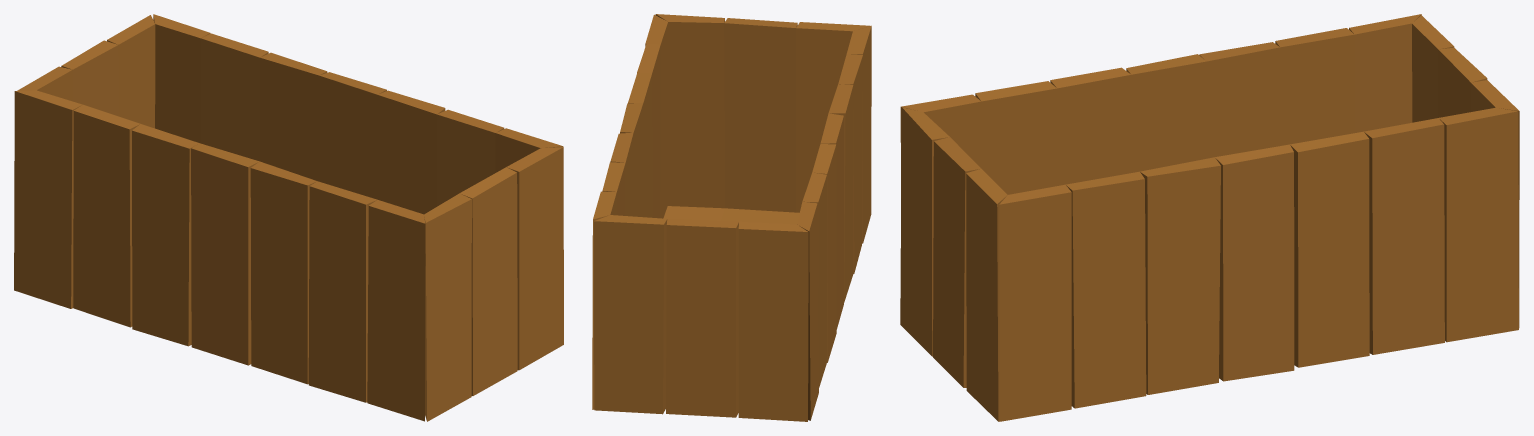
Rendered from Crate.fbx.
The picture shows the model from 3 angles, left to right: view 1: azimuth 30°, elevation 25°; view 2: azimuth 150°, elevation 25°; view 3: azimuth 270°, elevation 25°; orthographic projection. The views are drawn at different scales.
Visible parts, largest first — view 1: crate; view 2: crate; view 3: crate.
Part boxes in pixels (x1,y1,x2,y2): crate: (14, 14, 563, 421); crate: (592, 14, 871, 421); crate: (900, 14, 1519, 421).
Size of the model in its own units: 24.56 by 13.2 by 33.72.
